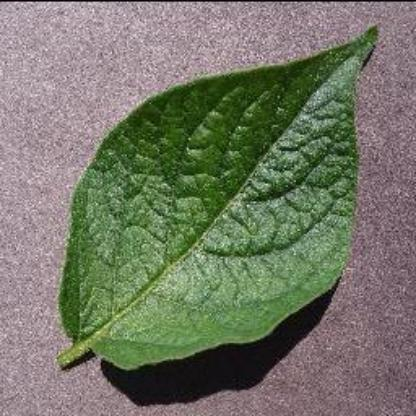Healthy-plant: (28, 24, 390, 378)
